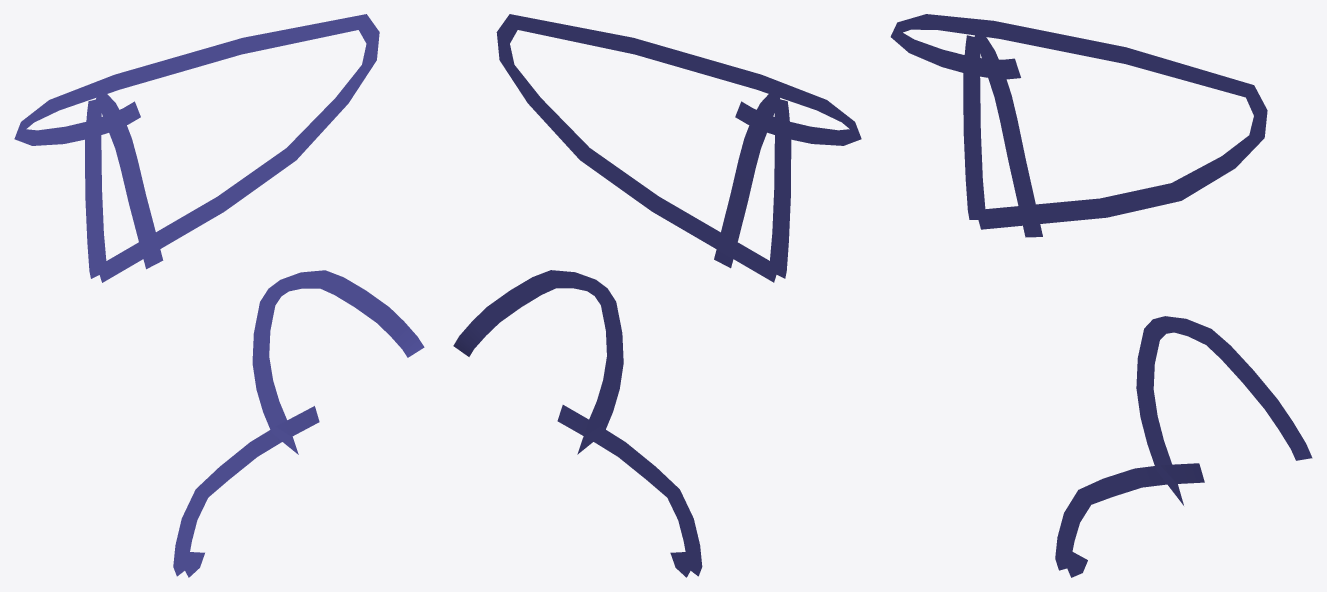
The model's file is snowman.gltf.
The picture shows the model from 3 angles, left to right: view 1: azimuth 30°, elevation 25°; view 2: azimuth 150°, elevation 25°; view 3: azimuth 330°, elevation 25°; orthographic projection. The views are drawn at different scales.
Visible parts, largest first — view 1: brush_Light_g0_b0; view 2: brush_Light_g0_b0; view 3: brush_Light_g0_b0.
Boxes of the visible parts, x1,y1,x2,y2 form: brush_Light_g0_b0: (14, 14, 424, 577); brush_Light_g0_b0: (453, 14, 861, 577); brush_Light_g0_b0: (890, 14, 1312, 577).
Bounding box in the file's own units: 0.2599 × 0.3198 × 0.00117.
